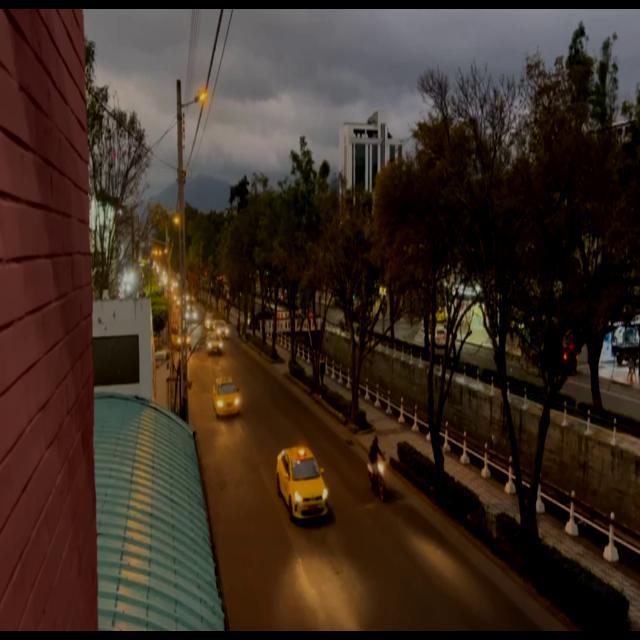MOTORCYCLE: (366, 456, 386, 504)
SED: (278, 451, 326, 520), (212, 379, 240, 416)
